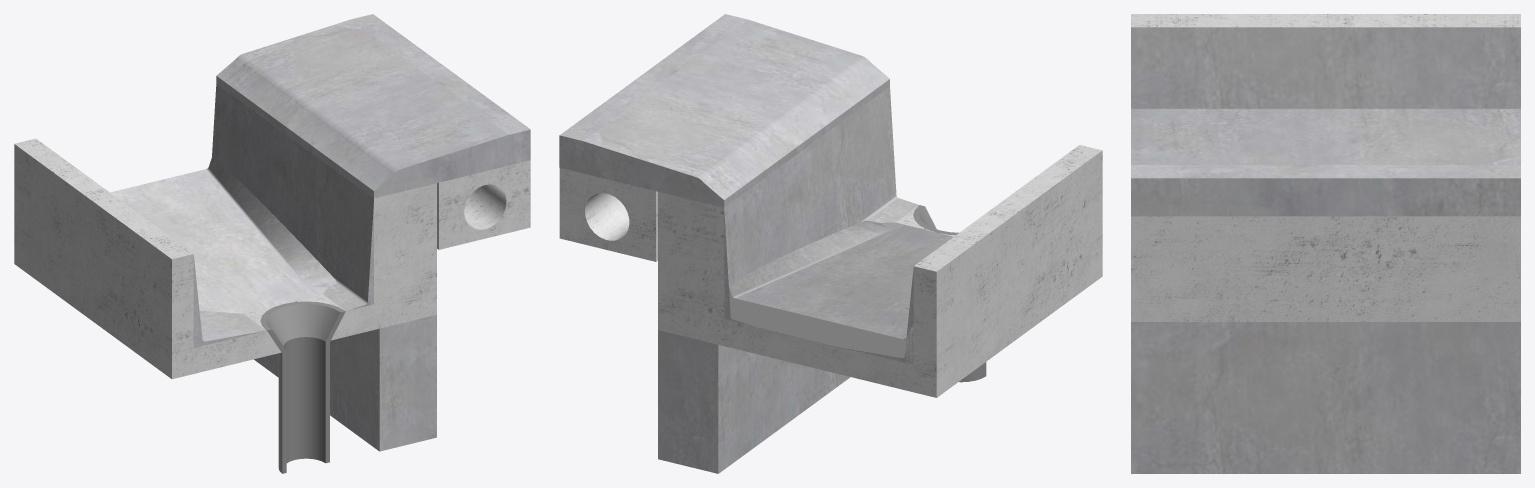
Rendered from eaves-gutter.glb.
3 renders of one model, left to right at view 1: azimuth 30°, elevation 25°; view 2: azimuth 150°, elevation 25°; view 3: azimuth 270°, elevation 25°, orthographic. The views are drawn at different scales.
Parts seen in each view (by area): view 1: 檐沟, 屋面顶, 檐沟分水, 墙体, 排水口, 圈梁; view 2: 檐沟, 屋面顶, 檐沟分水, 墙体, 圈梁, 排水口; view 3: 墙体, 檐沟, 屋面顶, 圈梁.
Part boxes in pixels (x1,y1,x2,y2): 檐沟: (14,83,436,379); 屋面顶: (216,14,530,198); 檐沟分水: (110,158,336,313); 墙体: (254,314,436,451); 排水口: (260,301,345,473); 圈梁: (437,160,530,249); 檐沟: (658,87,1102,397); 屋面顶: (559,14,889,207); 檐沟分水: (724,220,953,364); 墙体: (658,330,850,473); 圈梁: (559,168,657,261); 排水口: (913,205,986,382); 墙体: (1131,322,1520,473); 檐沟: (1131,14,1520,321); 屋面顶: (1131,108,1520,216); 圈梁: (1131,216,1520,299).
Bounding box in the file's own units: 1.31 × 0.9977 × 1.
Materials: 8 (6 with a texture image).
